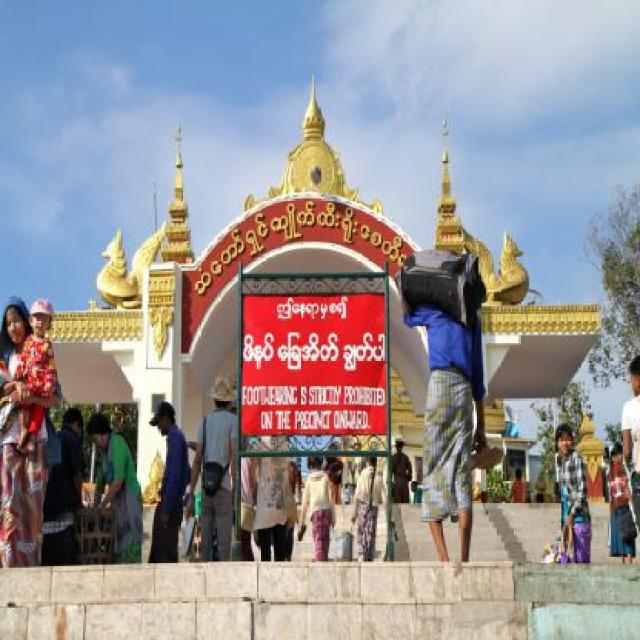Person: (186, 372, 397, 563), (402, 305, 488, 564), (0, 292, 60, 570), (87, 414, 141, 568), (12, 298, 58, 454), (42, 408, 86, 568), (143, 401, 179, 564), (556, 423, 592, 562), (606, 442, 634, 566), (621, 356, 639, 535), (599, 444, 633, 498), (388, 434, 410, 506), (509, 468, 526, 509), (410, 480, 424, 508), (553, 481, 561, 502)
